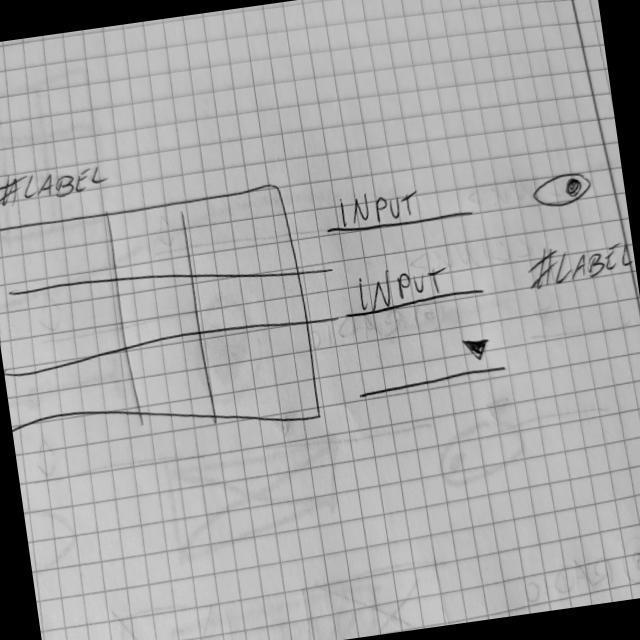input: (339, 255, 488, 324), (322, 176, 476, 242)
label: (525, 235, 637, 293), (1, 161, 113, 213)
select: (353, 332, 511, 403)
table: (1, 183, 323, 462)
toggle: (530, 169, 597, 214)
